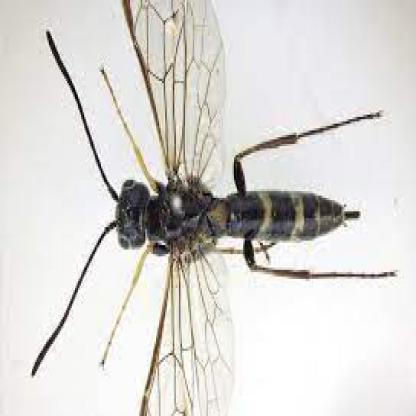sawfly: (30, 0, 416, 416)
